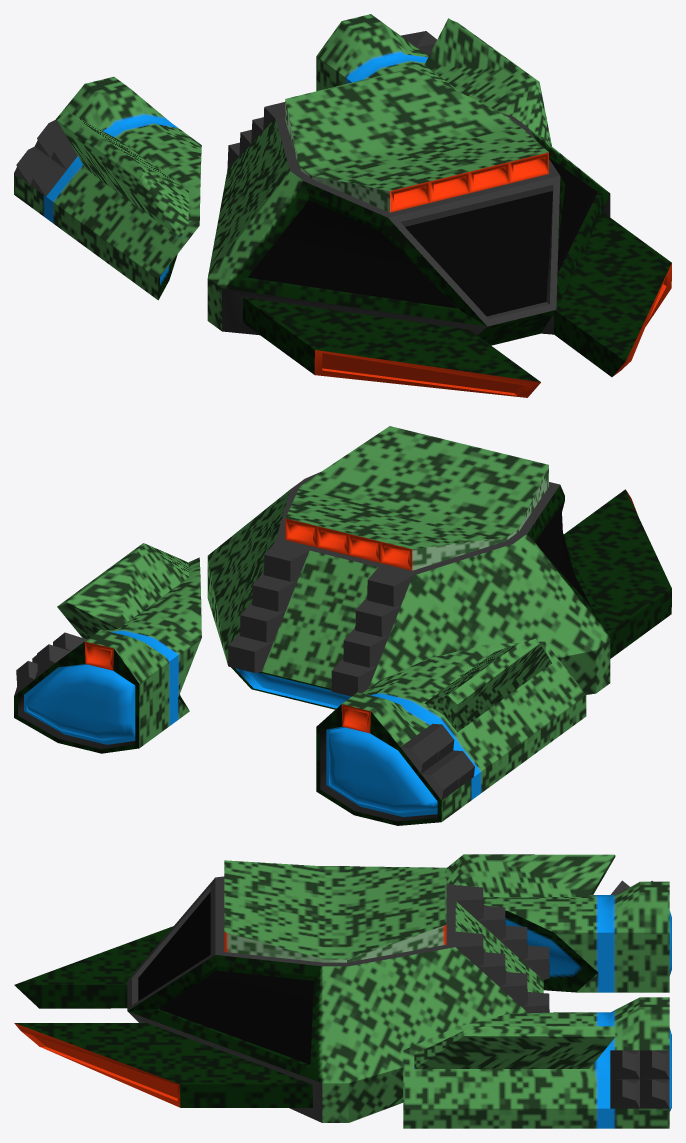
File: BulletHellShip.fbx
3 renders of one model, top to bottom at view 1: azimuth 30°, elevation 25°; view 2: azimuth 150°, elevation 25°; view 3: azimuth 270°, elevation 25°, orthographic. The views are drawn at different scales.
Visible parts, largest first — view 1: Cabin, Engine2, Engine; view 2: Cabin, Engine2, Engine; view 3: Cabin, Engine, Engine2.
Boxes of the visible parts, x1=… form: Cabin: x1=207, y1=68, x2=671, y2=397; Engine2: x1=14, y1=76, x2=201, y2=300; Engine: x1=316, y1=14, x2=551, y2=146; Cabin: x1=207, y1=426, x2=671, y2=709; Engine2: x1=316, y1=638, x2=586, y2=825; Engine: x1=14, y1=543, x2=201, y2=753; Cabin: x1=14, y1=860, x2=549, y2=1122; Engine: x1=403, y1=997, x2=671, y2=1128; Engine2: x1=446, y1=854, x2=671, y2=992.
Size of the model in its own units: 1.43 by 0.4998 by 1.99.
